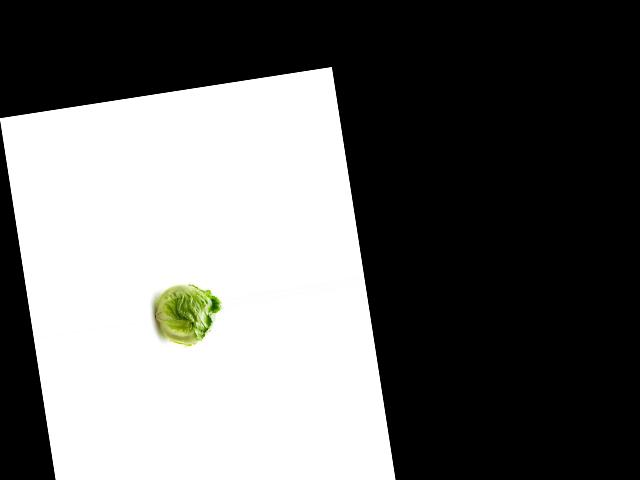lettuce: (148, 276, 227, 356)
